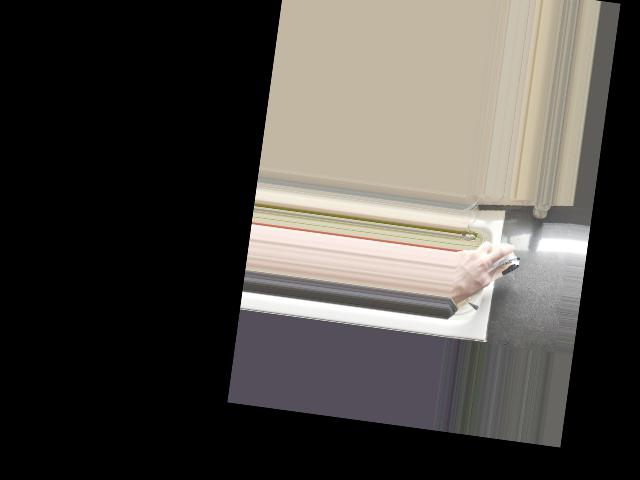cheese: (455, 239, 524, 294)
